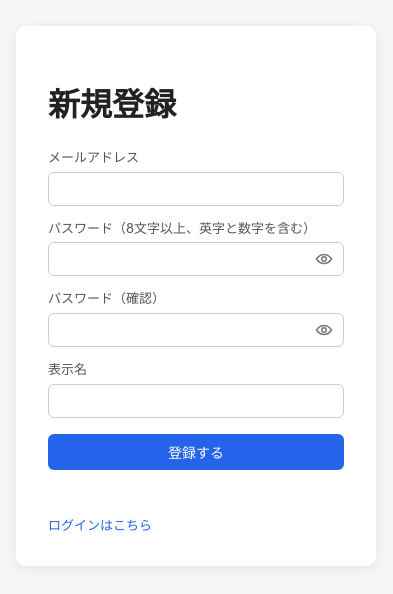
Scenario: RegisterPage › パスワード強度不足はクライアント側でエラーを表示しAPIを呼ばない
Type "taro@example.com" into the field labelled "メールアドレス" at x=196, y=189, box [48,172,344,206]
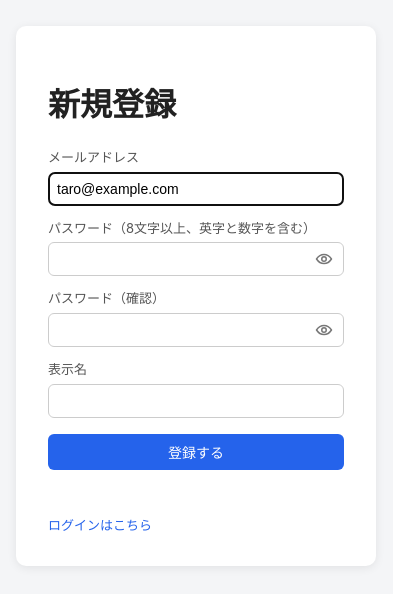
Type "onlyletters" into the password field labelled "パスワード（8文字以上、英字と数字を含む）" at x=196, y=259, box [48,242,344,276]
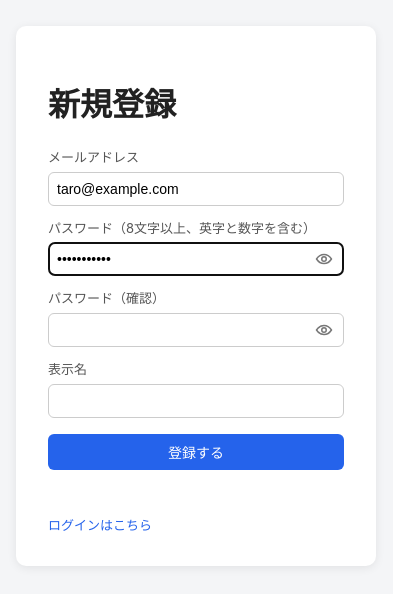
Type "onlyletters" into the password field labelled "パスワード（確認）" at x=196, y=330, box [48,313,344,347]
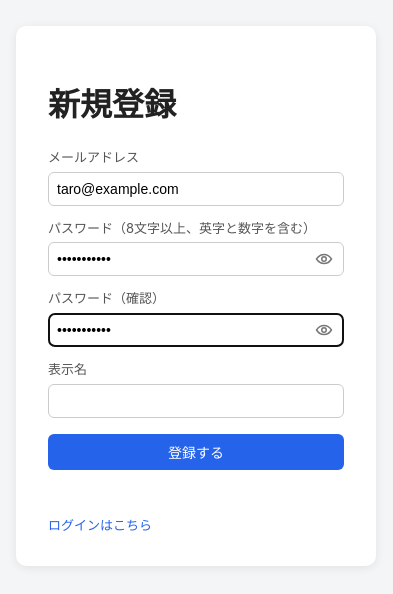
Type "太郎" into the field labelled "表示名" at x=196, y=401, box [48,384,344,418]
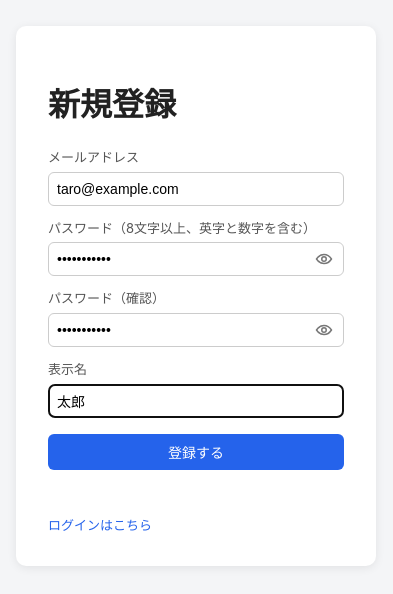
Click the button "登録する" at x=196, y=452, box [48,434,344,470]
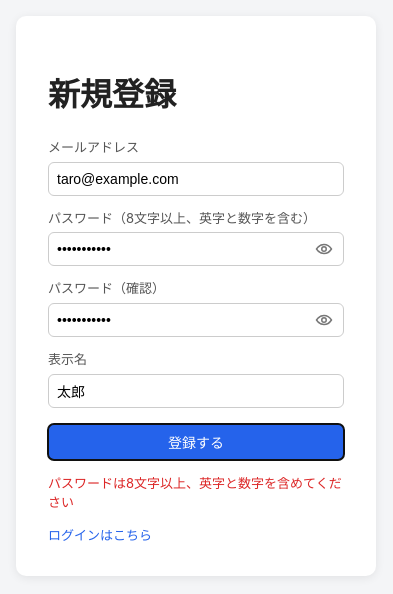
Expected: the text "パスワードは8文字以上、英字と数字を含めてください" is shown, [48,473,344,511]
